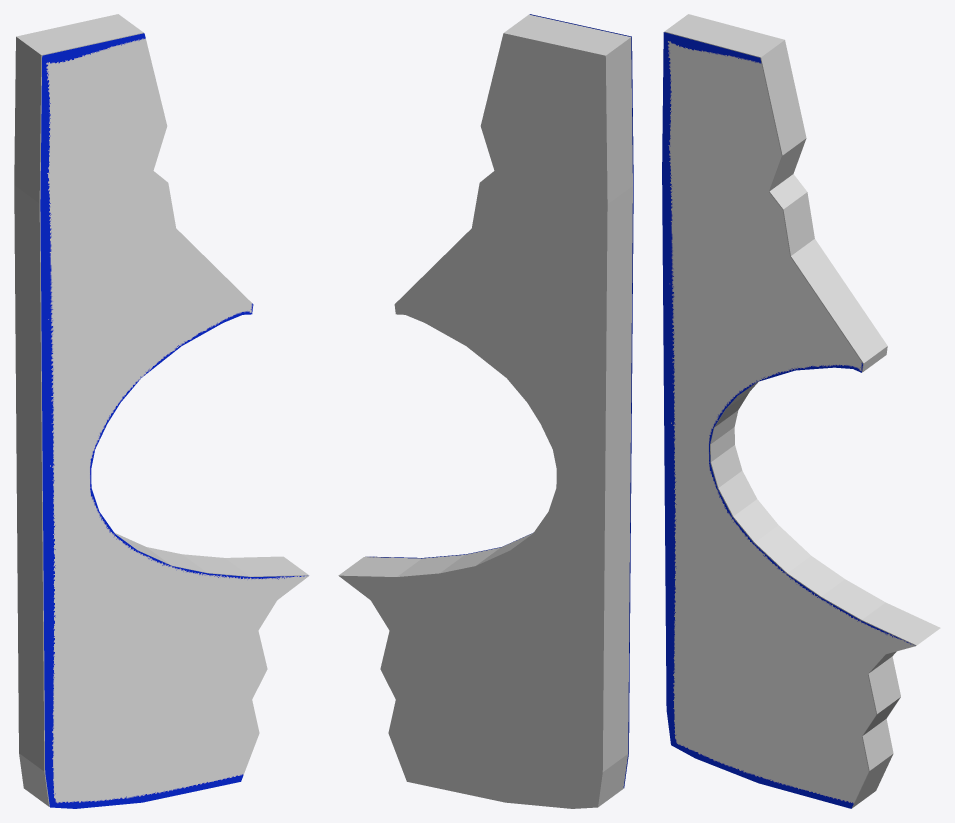
3 views of the same model, side by side, from view 1: azimuth 30°, elevation 25°; view 2: azimuth 150°, elevation 25°; view 3: azimuth 330°, elevation 25° (orthographic). The views are drawn at different scales.
Visible parts, largest first — view 1: Out_3_1, Out_3_0; view 2: Out_3_0, Out_3_1; view 3: Out_3_1, Out_3_0.
Part boxes in pixels (box(x1,y1,x2,y2)): Out_3_1: box(40, 33, 309, 808); Out_3_0: box(14, 14, 308, 806); Out_3_0: box(338, 14, 632, 808); Out_3_1: box(365, 14, 633, 787); Out_3_1: box(662, 32, 915, 808); Out_3_0: box(664, 14, 940, 808).
Size of the model in its own units: 3.06 by 8.41 by 0.515.
2 materials, 1 textured.
